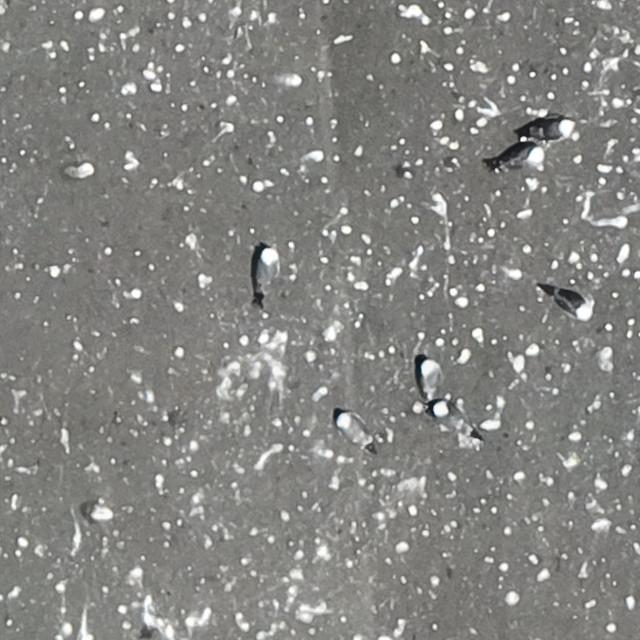umineko: (494, 137, 549, 175), (435, 403, 475, 439), (336, 414, 366, 444), (528, 122, 570, 142), (558, 292, 590, 318), (256, 251, 276, 288), (418, 358, 436, 399)
